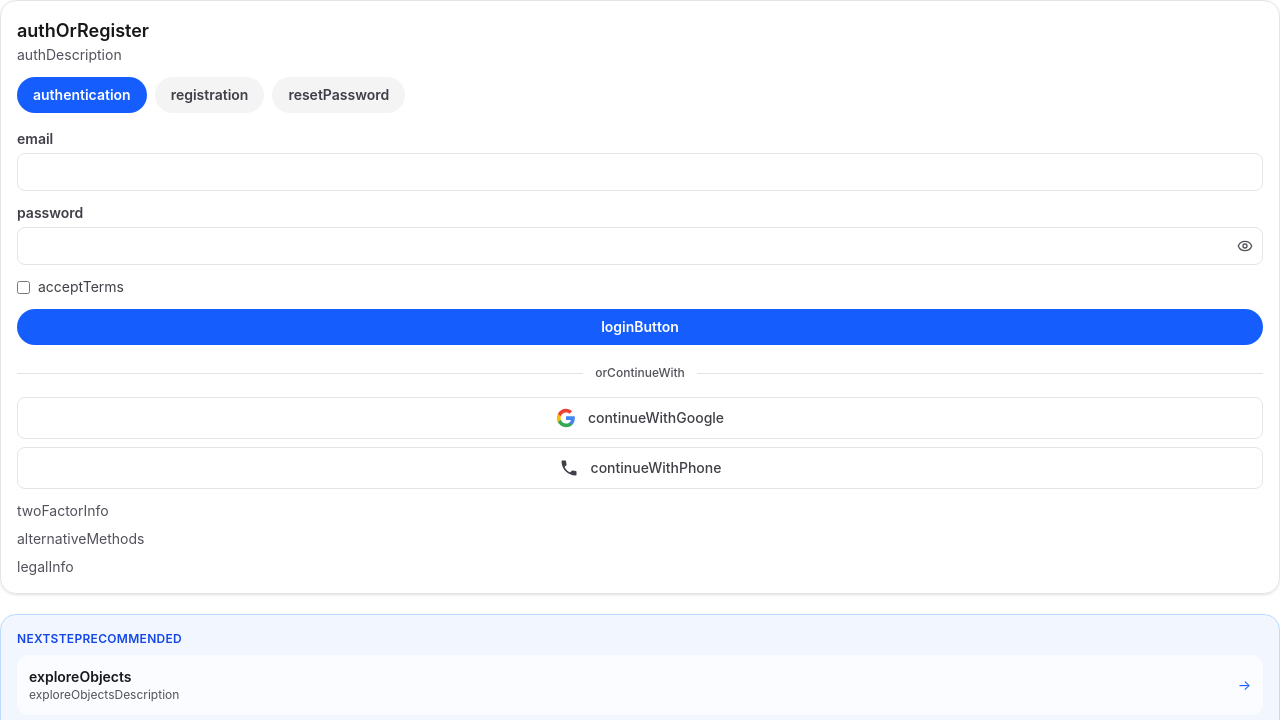
Test case: LoginPage Component › clicking register tab shows register button
Click the button "registration".
click(210, 95)  # box [155,77,264,113]
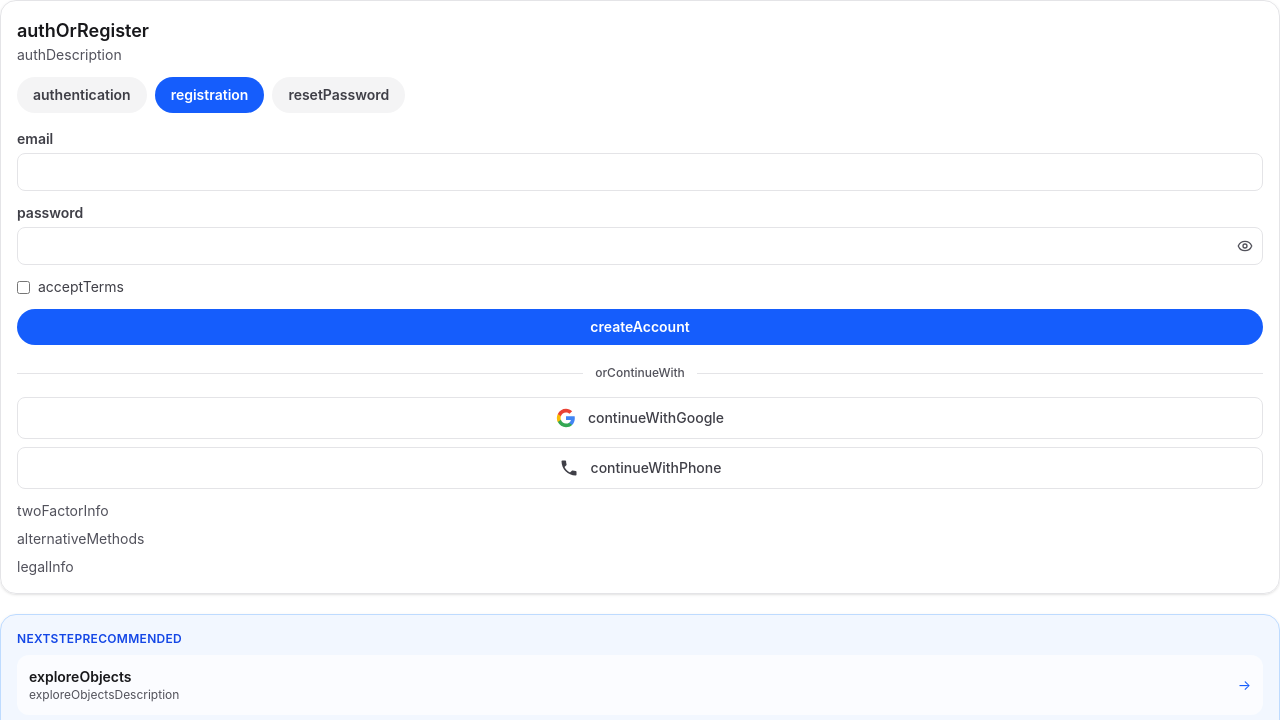
Now the button "createAccount" is shown, box [17,309,1263,345]
